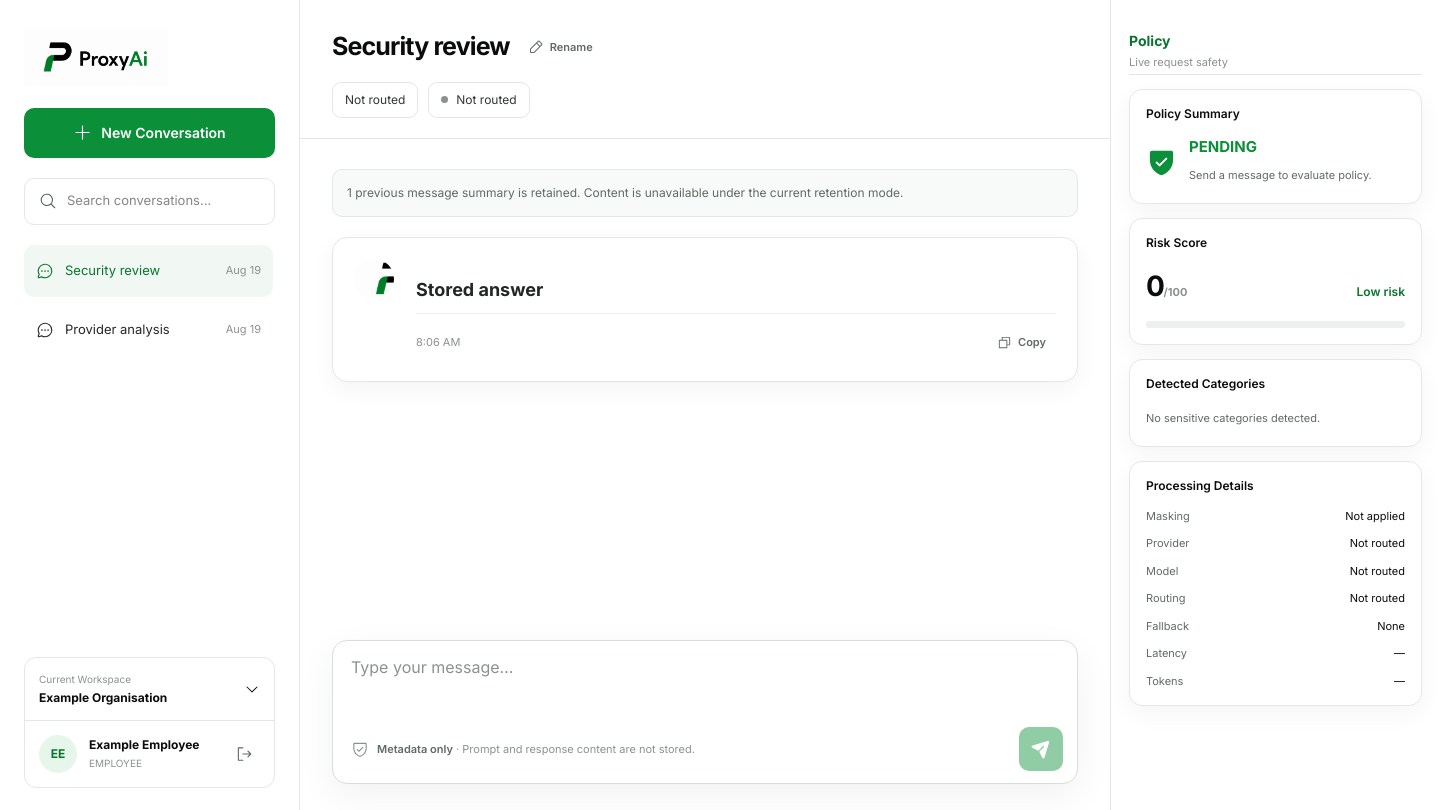
Test: conversation workspace loading › retries only a terminal failure with a fresh client request identity
This screenshot has width=1440, height=810.
Expected: the heading "Security review" is shown, x1=332 y1=28 x2=510 y2=66
In the text box labelled "message": (707, 691) x1=351 y1=655 x2=1063 y2=727, type "Retry this prompt"
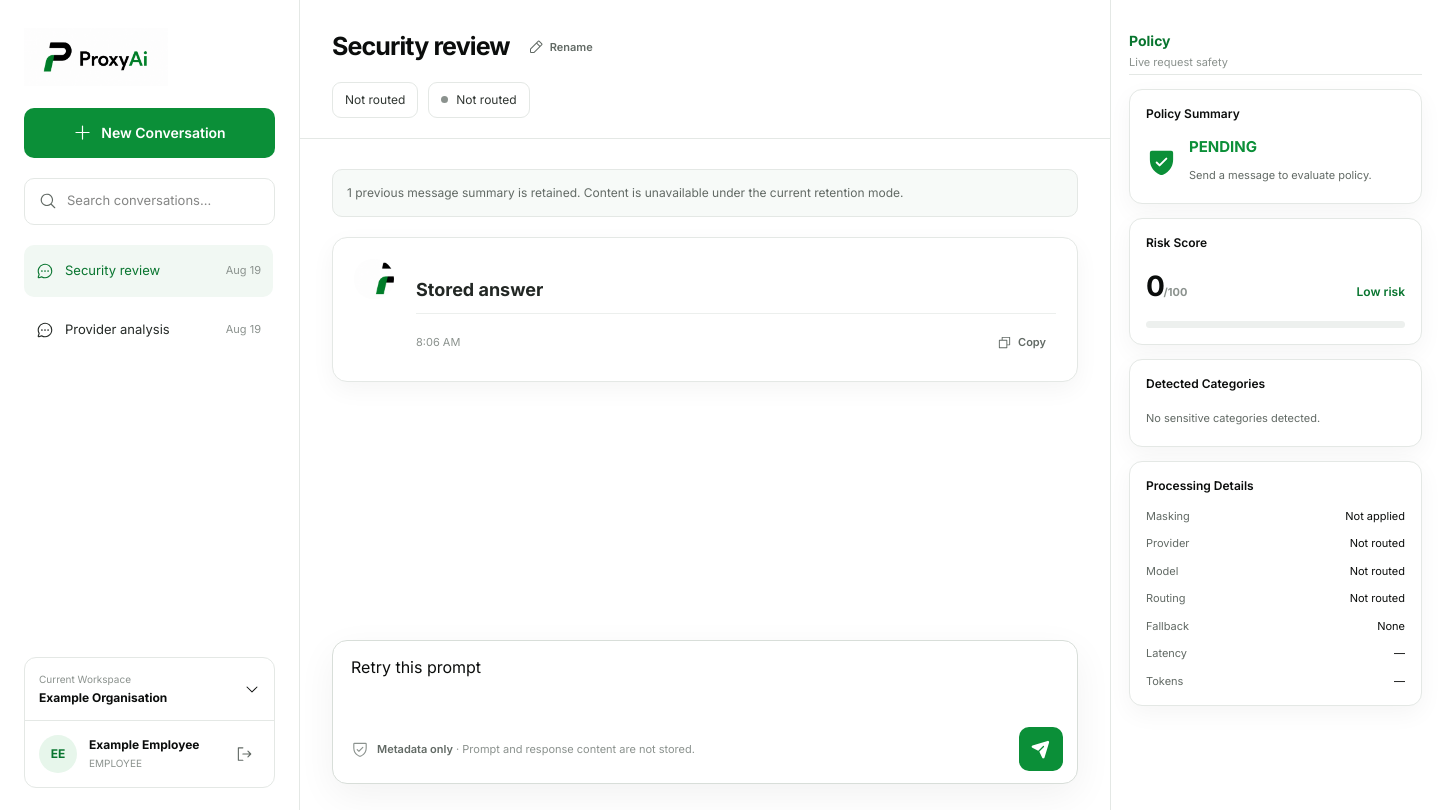
Click the button named "Send message": (1041, 749) x1=1019 y1=727 x2=1063 y2=771
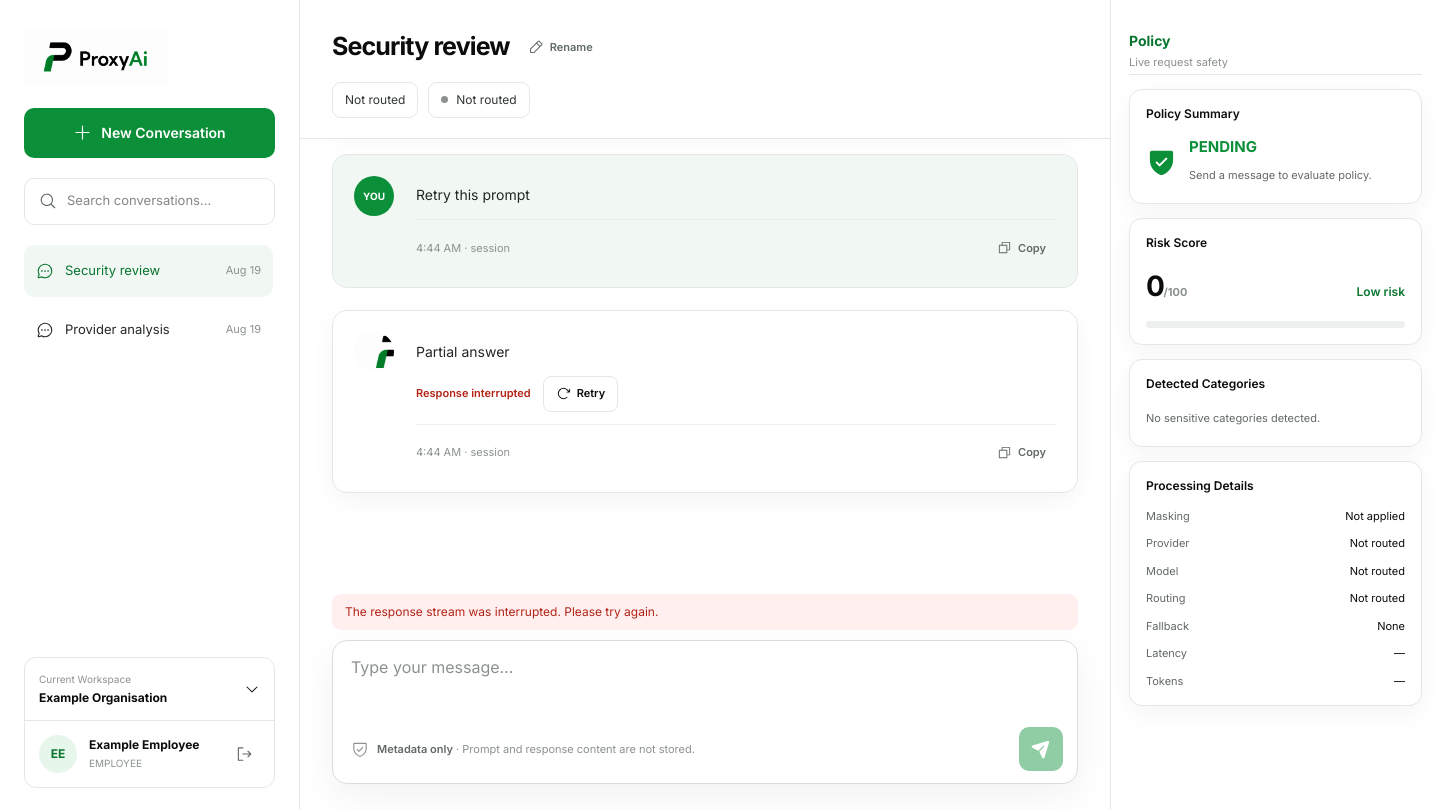
Expected: the text "Partial answer" is shown, x1=416 y1=343 x2=510 y2=360
Click the button with aria-label "Retry response": (580, 394) x1=543 y1=376 x2=618 y2=412
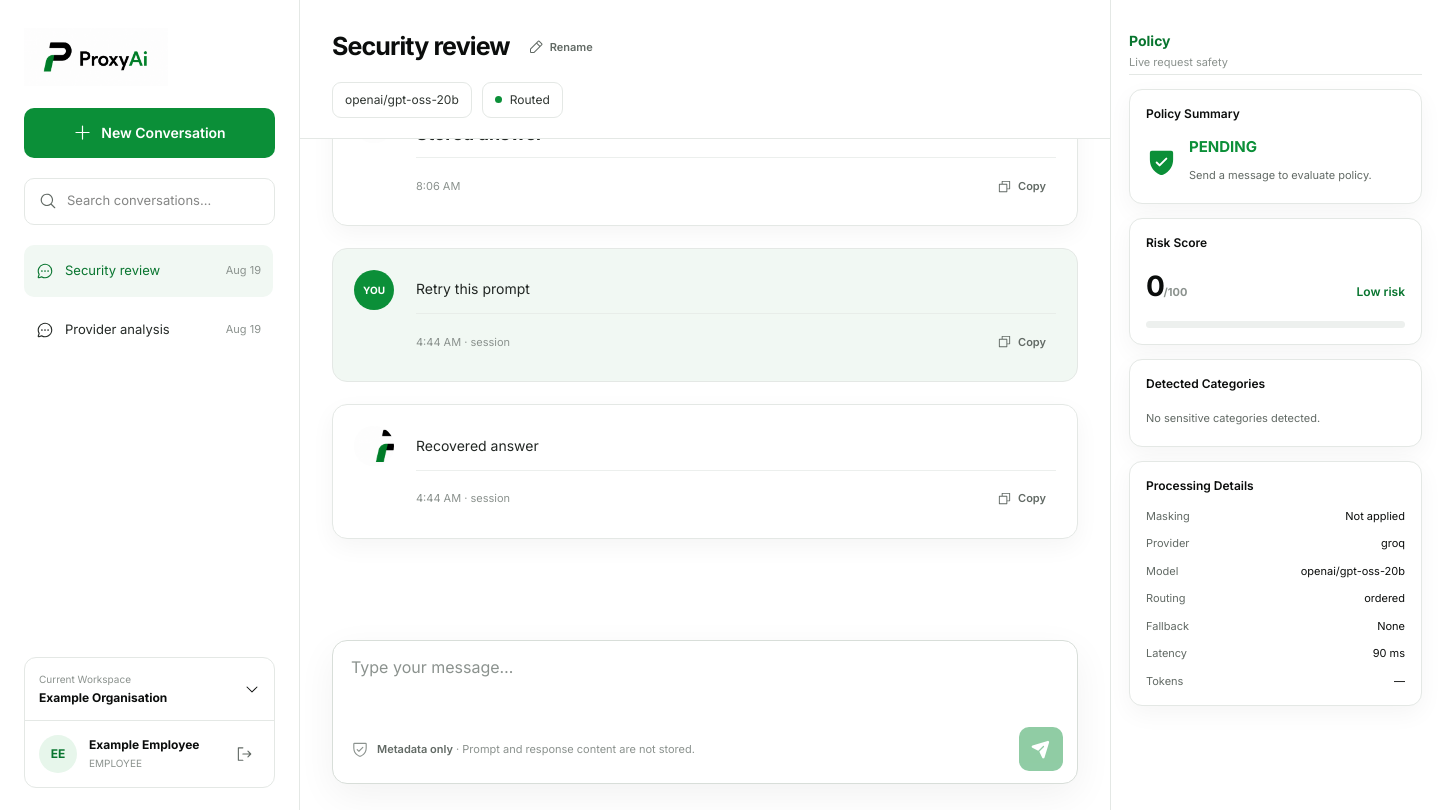
Expected: the text "Retry this prompt" is shown once, x1=416 y1=280 x2=530 y2=297
Expected: the text "Recovered answer" is shown, x1=416 y1=437 x2=539 y2=454
